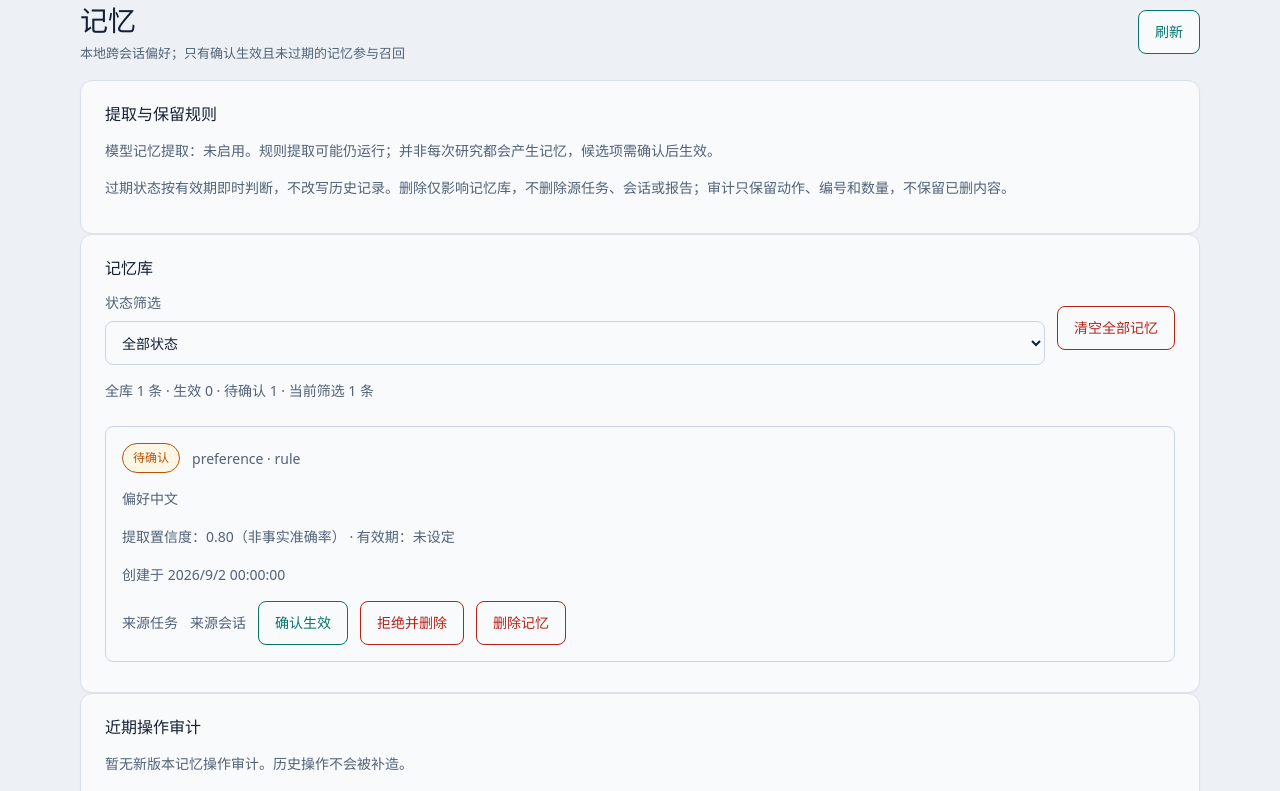
Test: confirms a pending memory only after explicit confirmation
Click the button "确认生效" at (303, 623), box [258,601,348,645]
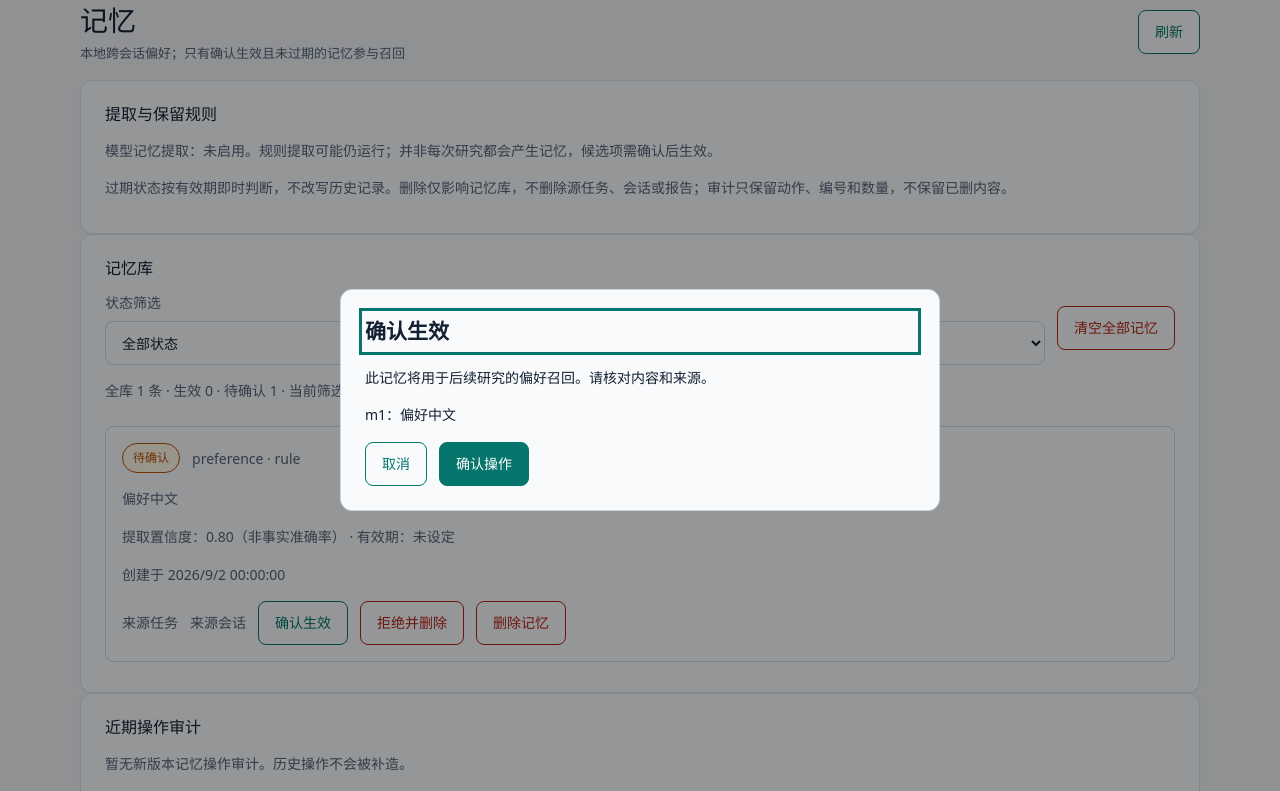
Click the button "确认操作" at (484, 464), box [439,442,529,486]
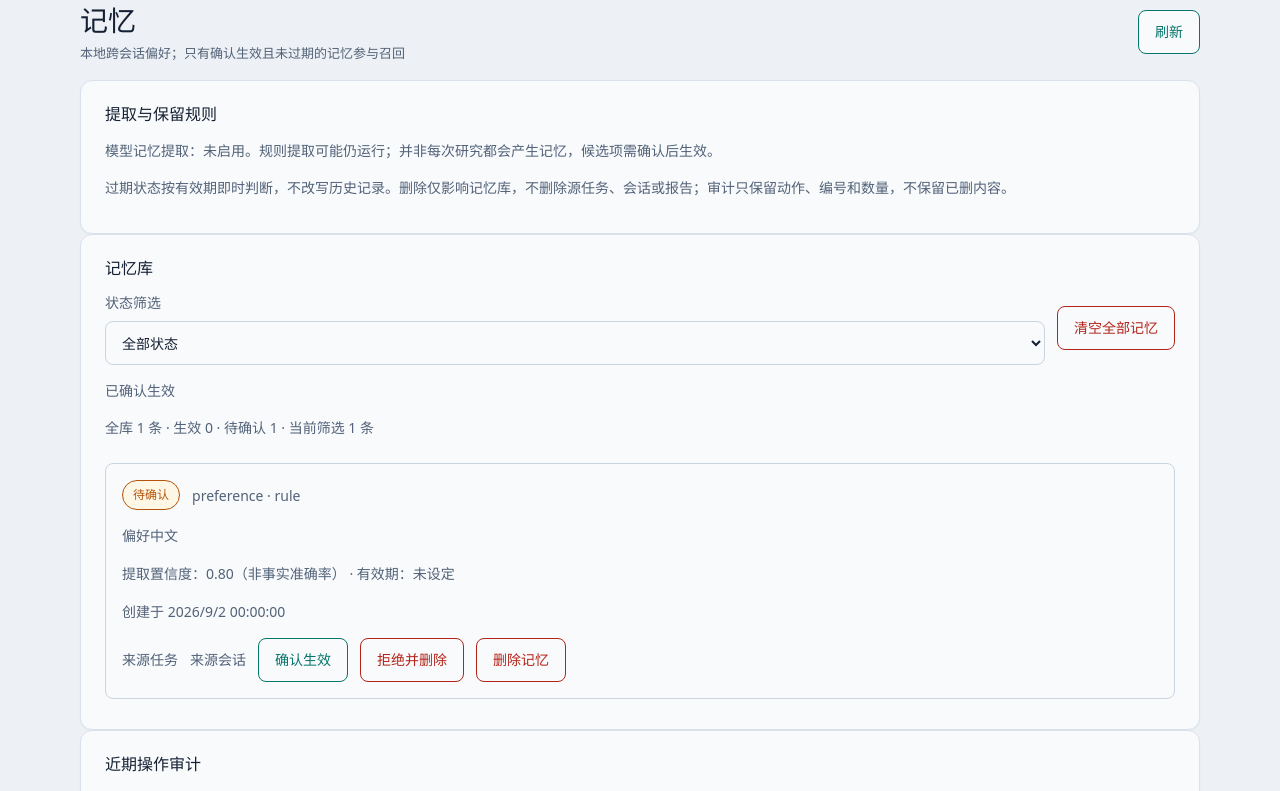
Check: the text "已确认生效" is shown, box [105,381,175,400]
